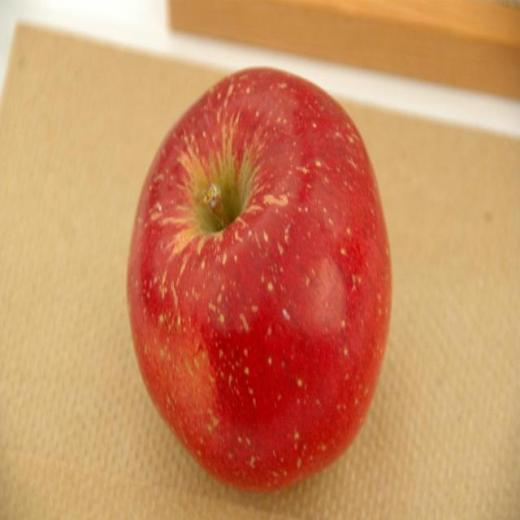Apple: (120, 54, 394, 498)
